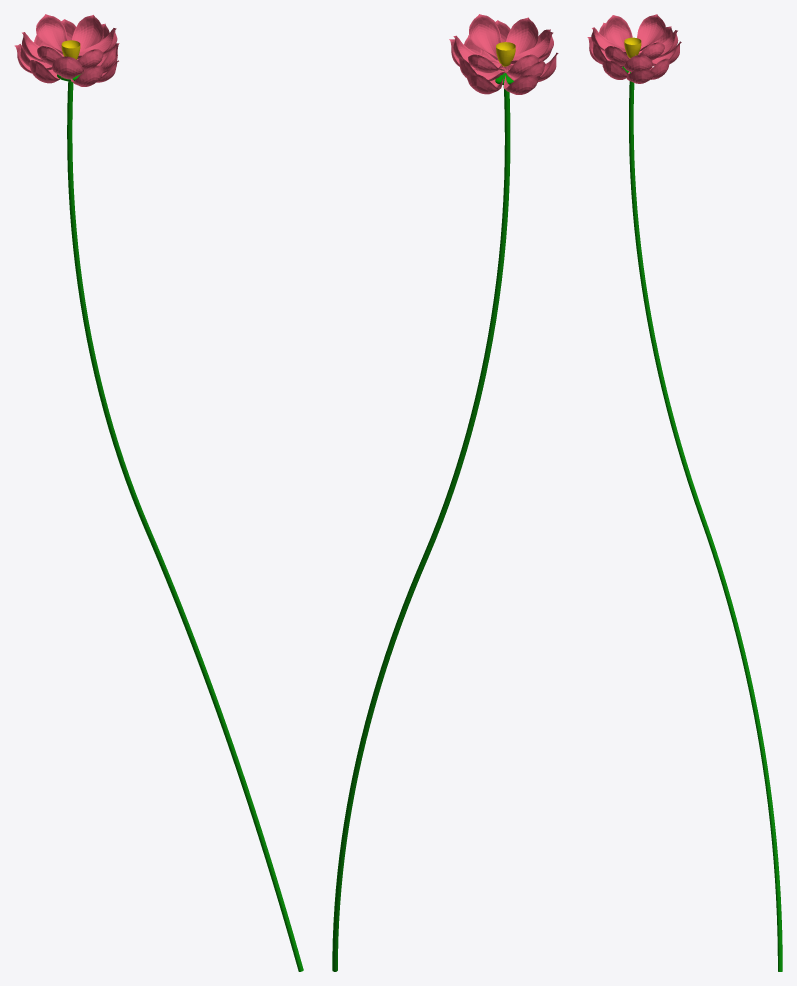
Rendered from Lotus086.fbx.
The picture shows the model from 3 angles, left to right: view 1: azimuth 30°, elevation 25°; view 2: azimuth 150°, elevation 25°; view 3: azimuth 330°, elevation 25°; orthographic projection. The views are drawn at different scales.
Parts seen in each view (by area): view 1: pCylinder5, nurbsToPoly23, nurbsToPoly19; view 2: pCylinder5, nurbsToPoly22, nurbsToPoly18, nurbsToPoly10; view 3: pCylinder5, nurbsToPoly23, nurbsToPoly20.
Part boxes in pixels (box(x1,y1,x2,y2)): pCylinder5: box(67, 81, 303, 971); nurbsToPoly23: box(36, 14, 67, 54); nurbsToPoly19: box(72, 15, 102, 51); pCylinder5: box(332, 85, 510, 971); nurbsToPoly22: box(469, 14, 501, 60); nurbsToPoly18: box(506, 17, 538, 64); nurbsToPoly10: box(467, 73, 504, 94); pCylinder5: box(629, 81, 782, 971); nurbsToPoly23: box(637, 14, 665, 51); nurbsToPoly20: box(604, 15, 632, 47).
Size of the model in its own units: 52.45 by 200 by 24.27.
